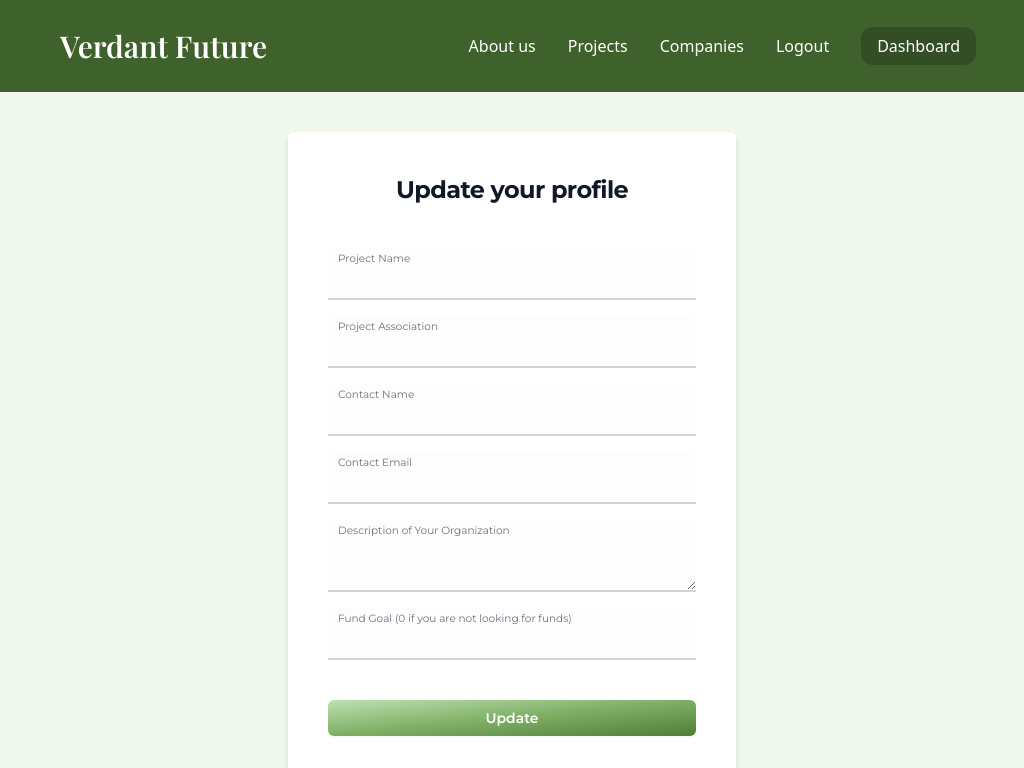
Scenario: UpdateProfileForm › handles update profile processing failure
The width and height of the screenshot is (1024, 768).
Type "New Project Name" into the field labelled "Project Name" at coordinates (512, 274), box [328, 248, 696, 300]
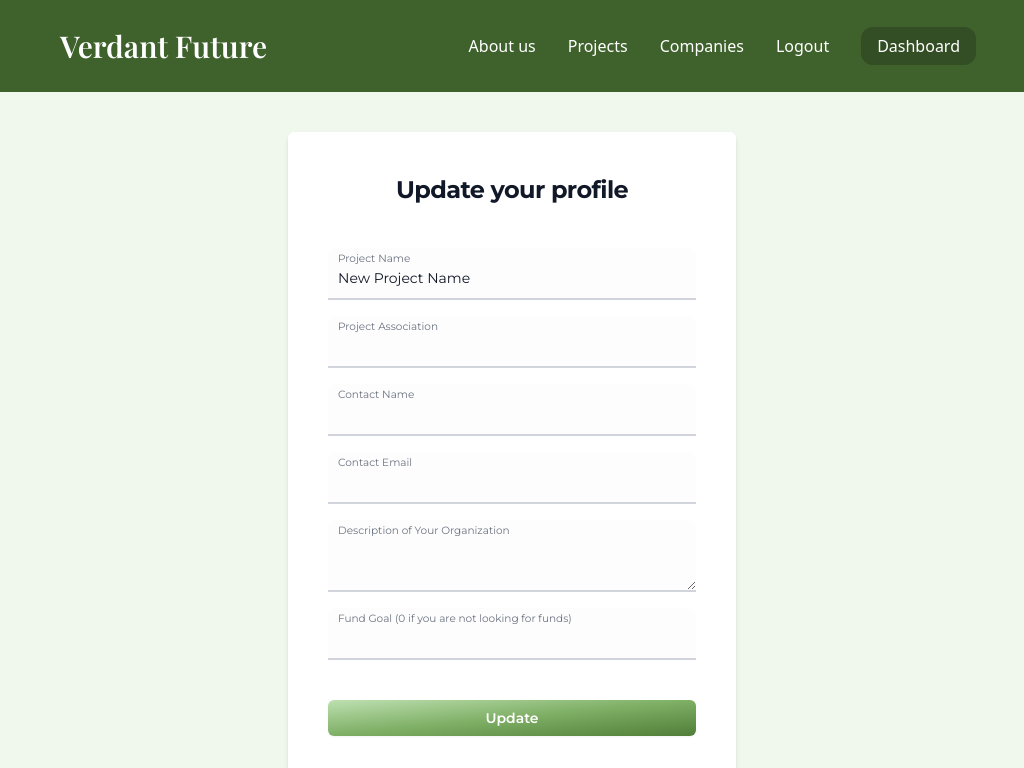
Submit the form from the button "Update", box [328, 700, 696, 736]
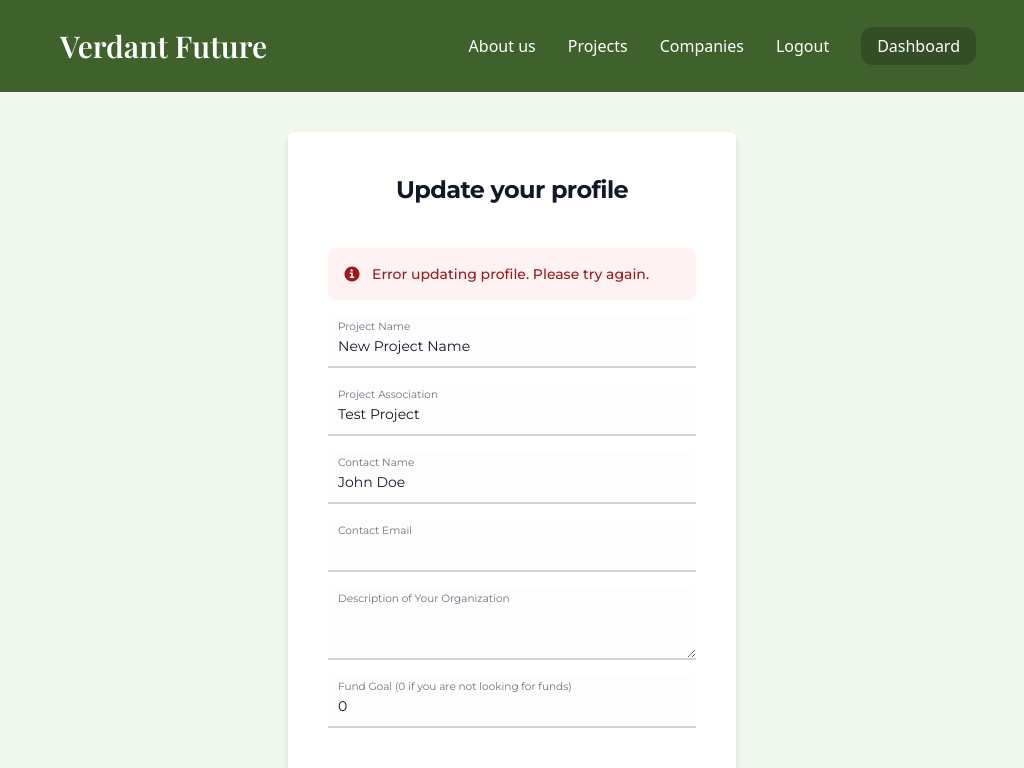
Now the text "Error updating profile. Please try again." is shown, box [372, 265, 649, 283]
